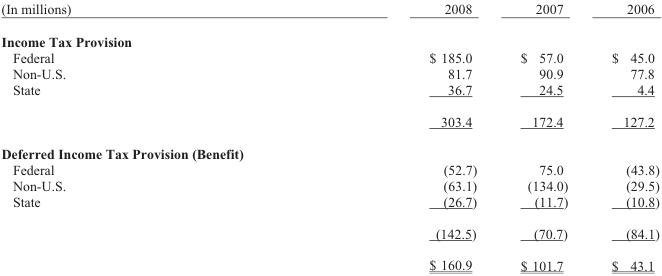table: (0, 0, 658, 272)
table column: (0, 0, 249, 272), (249, 0, 497, 272), (497, 0, 589, 272), (589, 0, 658, 272)
table column header: (0, 0, 658, 24)
table projected row header: (0, 24, 658, 49), (0, 137, 658, 161)
table row: (0, 105, 658, 137), (0, 216, 658, 248), (0, 24, 658, 49), (0, 0, 658, 24), (0, 81, 658, 105), (0, 137, 658, 161), (0, 192, 658, 216), (0, 248, 658, 272), (0, 49, 658, 65), (0, 65, 658, 81), (0, 176, 658, 192), (0, 161, 658, 176)
